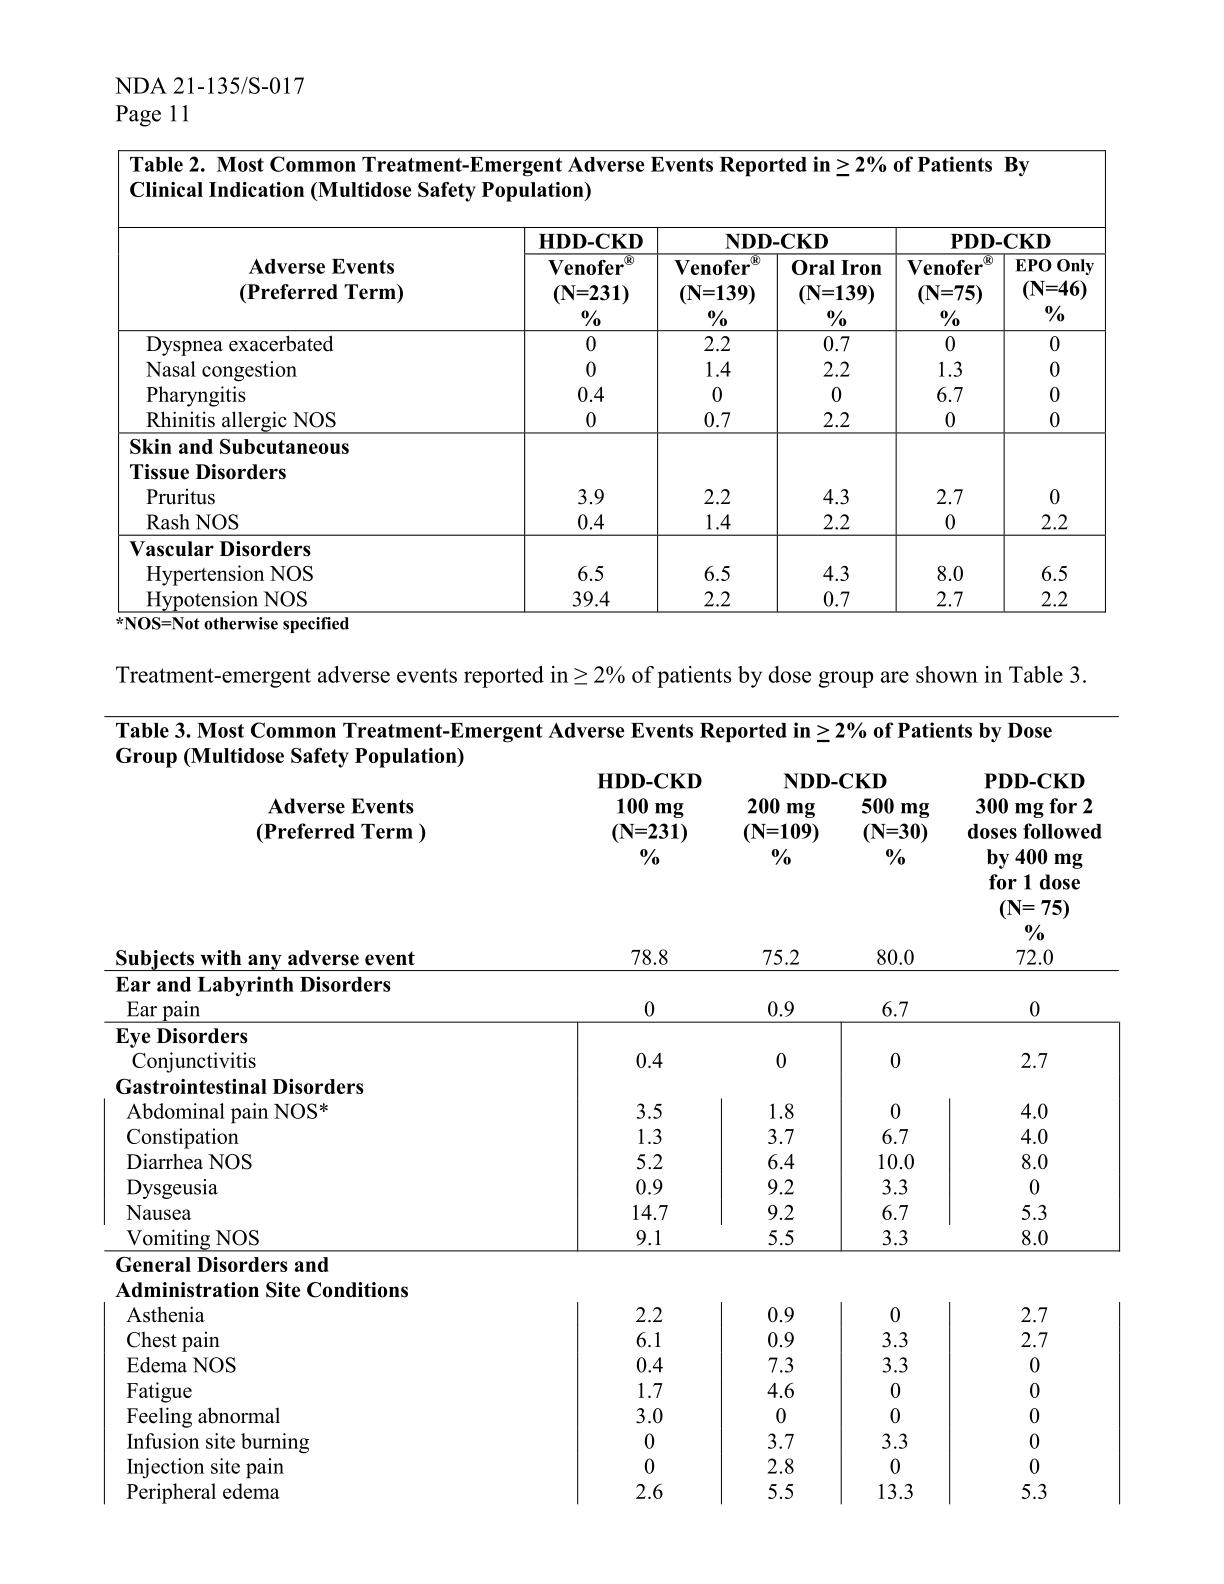partial_lined_merged_cells: (102, 714, 1122, 1508), (116, 149, 1107, 615)
